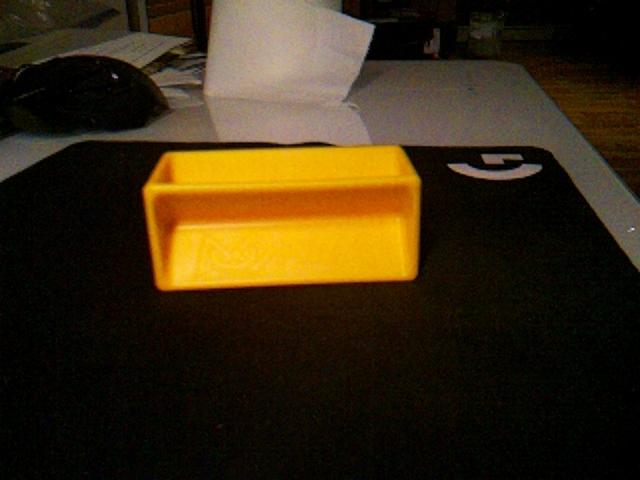yellow: (141, 145, 423, 293)
